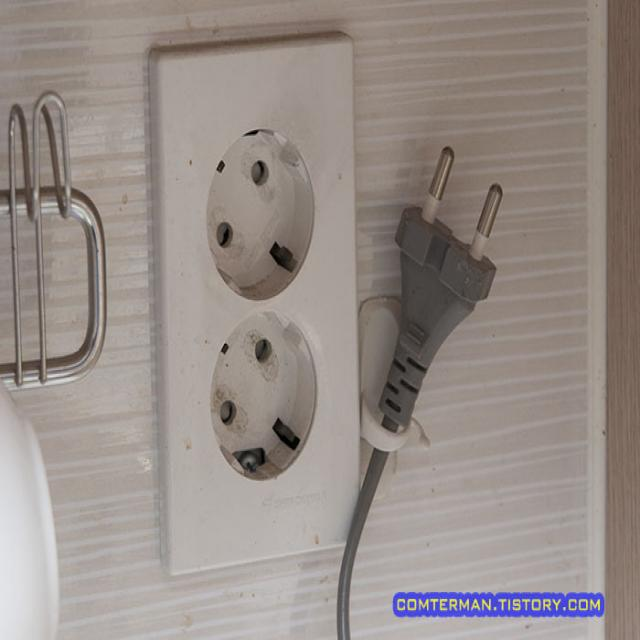typeb: (129, 30, 372, 602)
